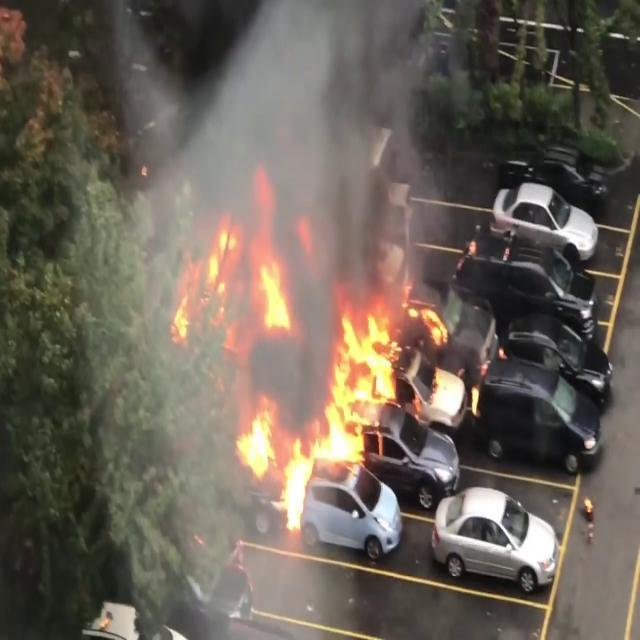Fire: (168, 215, 461, 523)
Smoke: (116, 0, 452, 292)
